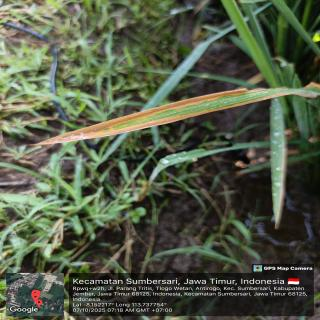Hawar-Daun: (26, 89, 290, 146)
